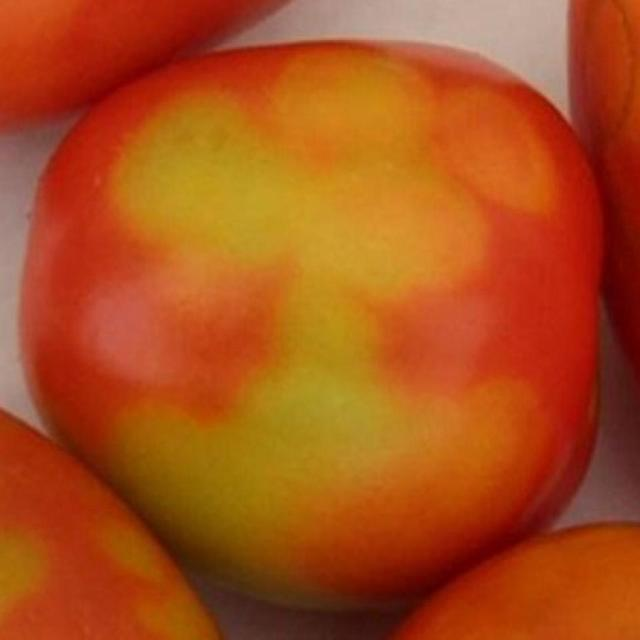Spotted wilt Virus Fruit: (12, 27, 403, 408)
